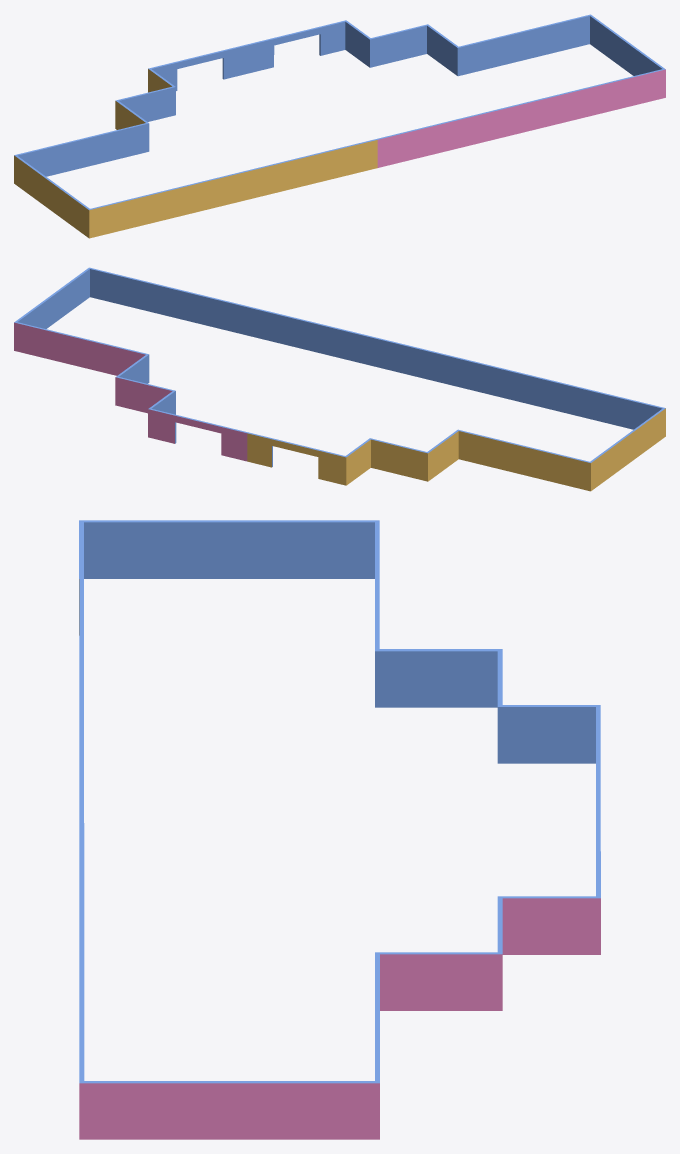
The model's file is WallsExterior_Tienda1.fbx.
The picture shows the model from 3 angles, top to bottom: view 1: azimuth 30°, elevation 25°; view 2: azimuth 150°, elevation 25°; view 3: azimuth 270°, elevation 25°; orthographic projection. The views are drawn at different scales.
Parts seen in each view (by area): view 1: Walls; view 2: Walls; view 3: Walls.
Boxes of the visible parts, x1,y1,x2,y2 form: Walls: (14, 14, 665, 238); Walls: (14, 267, 665, 491); Walls: (79, 520, 600, 1139).
Bounding box in the file's own units: 2994 × 140 × 1173.
